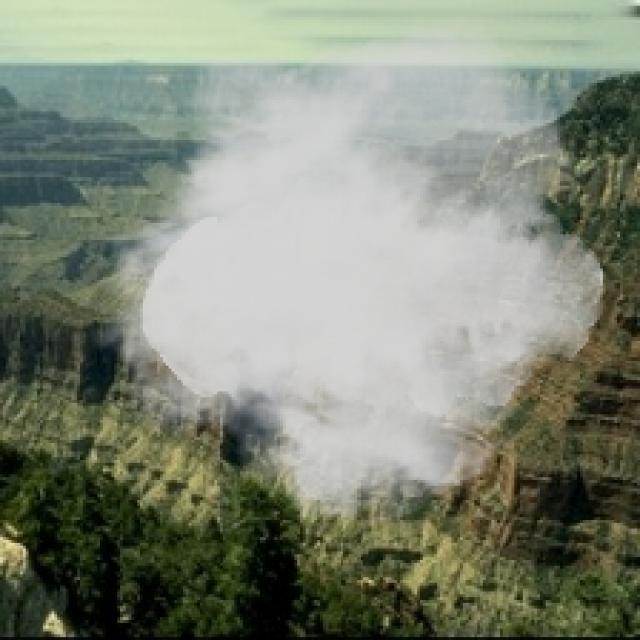Smoke: (89, 14, 606, 529)
